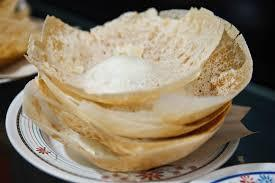Hoppers: (23, 7, 247, 173)
